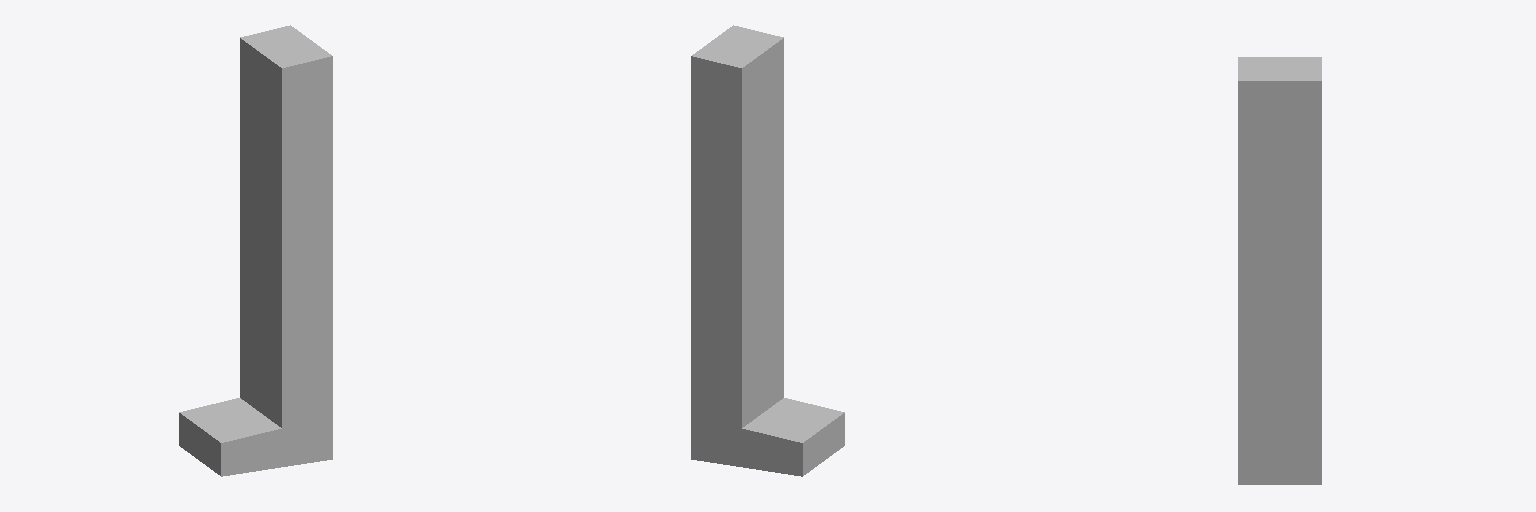
File: Number1.obj
The picture shows the model from 3 angles: view 1: azimuth 30°, elevation 25°; view 2: azimuth 150°, elevation 25°; view 3: azimuth 270°, elevation 25°; orthographic projection.
Parts seen in each view (by area): view 1: typeMesh1; view 2: typeMesh1; view 3: typeMesh1.
Part boxes in pixels (left/top/right/bottom): typeMesh1: left=179, top=25, right=332, bottom=476; typeMesh1: left=691, top=25, right=844, bottom=476; typeMesh1: left=1238, top=57, right=1321, bottom=484.
Bounding box in the file's own units: 0.3907 × 1.35 × 0.2559.